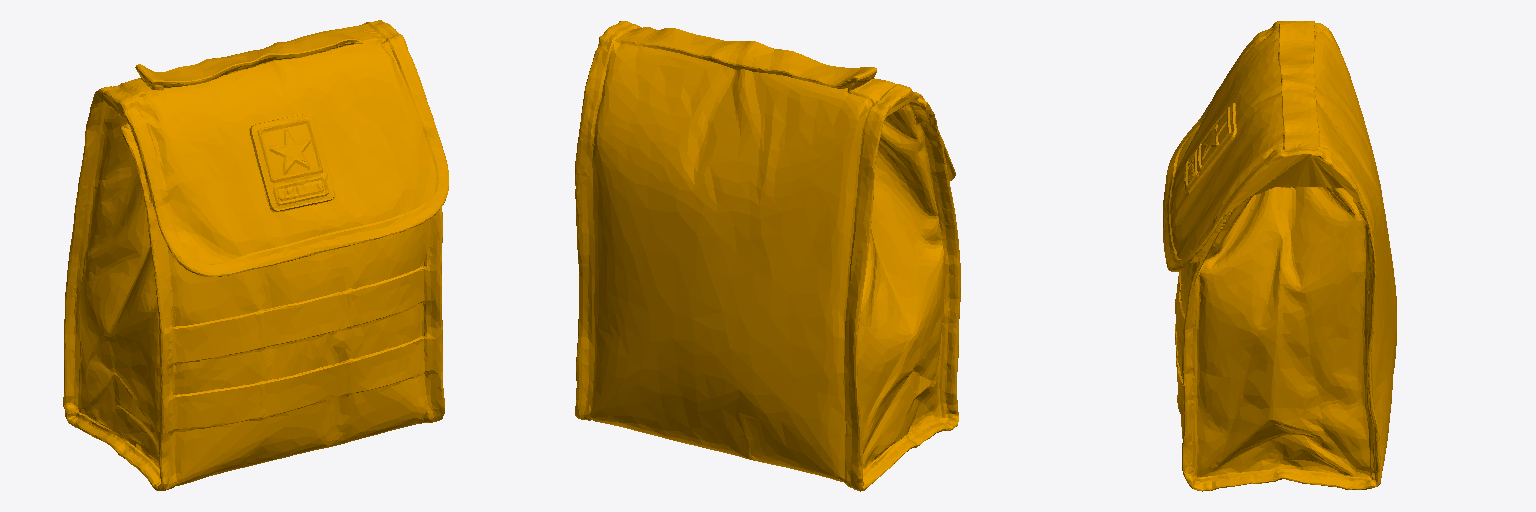
robot.urdf — US_Army_Stash_Lunch_Bag:

<robot name="US_Army_Stash_Lunch_Bag">
    <link name="base">
        <inertial>
            <origin xyz="1.1904204211371757e-18 2.055026722271167e-18 -1.9272398855945936e-17" />
            <mass value="0.006255631368311293" />
            <inertia ixx="3.805377395270127e-05" ixy="5.26888269981131e-08" 
                     ixz="-1.3833834167349088e-06" iyy="4.901628449097542e-05" 
                     iyz="-1.6324504354960863e-07" izz="2.9203051784055906e-05" />
        </inertial>
        <visual>
            <origin xyz="0 0 0" />
            <geometry>
                <mesh filename="visual_geometry.obj" />
            </geometry>
        </visual>
        <collision>
            <origin xyz="0 0 0" />
            <geometry>
                <mesh filename="collision_geometry.obj" />
            </geometry>
        </collision>
    </link>
</robot>

--- Facts derived from the render (not from the file) ---
Views: 3 orthographic renders of the robot side by side, from view 1: azimuth 30°, elevation 25°; view 2: azimuth 150°, elevation 25°; view 3: azimuth 270°, elevation 25°.
Robot: US_Army_Stash_Lunch_Bag — 1 links, 0 joints (none); root link base; default pose: every joint at zero.
Visible links, largest first — view 1: base; view 2: base; view 3: base.
Link boxes in pixels (box(x1,y1,x2,y2)): base: box(63, 20, 448, 490); base: box(575, 21, 960, 491); base: box(1163, 21, 1396, 491).
Size in the robot's own frame: 0.2246 by 0.161 by 0.2738 metres.
Meshes: 1 distinct files referenced, 1 mesh visuals loaded (1 OBJ).